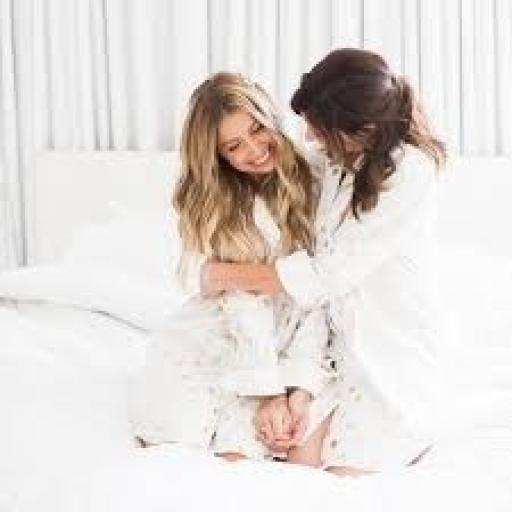hugging: (157, 44, 453, 473)
